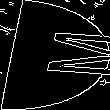M_W: (5, 29, 105, 81)
